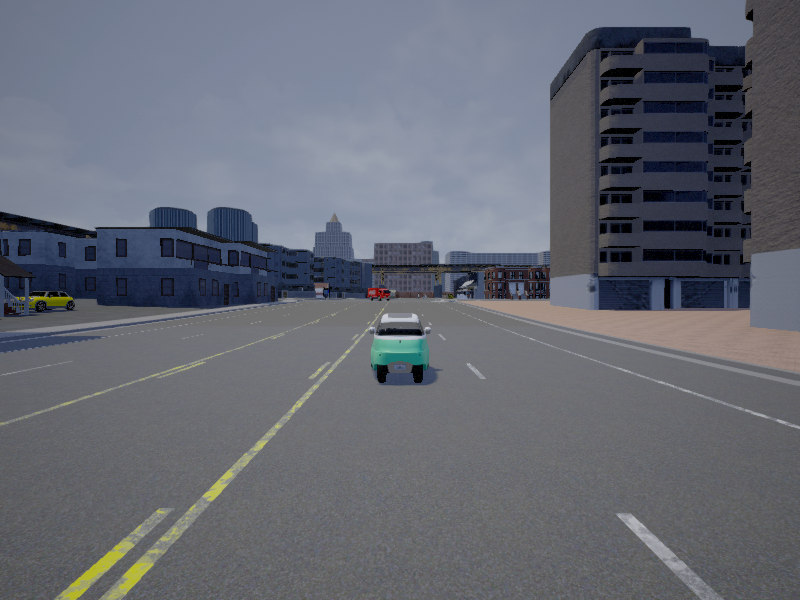Benign: (370, 311, 430, 384), (18, 290, 75, 311), (365, 287, 391, 301)
